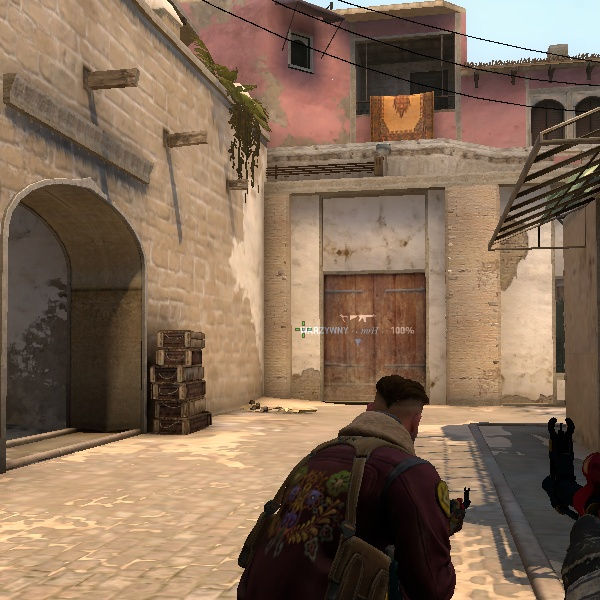t_body: (229, 365, 518, 600)
t_head: (344, 369, 452, 459)
